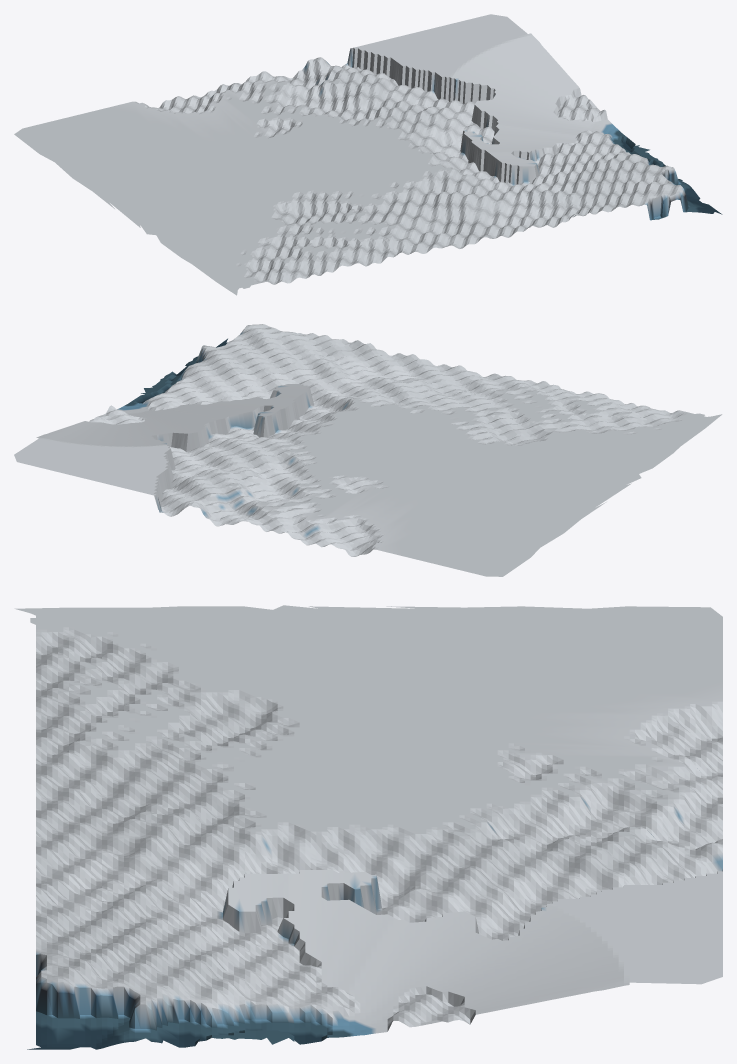
The model's file is frost_tile_x1z0.glb.
3 renders of one model, top to bottom at view 1: azimuth 30°, elevation 25°; view 2: azimuth 150°, elevation 25°; view 3: azimuth 270°, elevation 25°, orthographic. The views are drawn at different scales.
Visible parts, largest first — view 1: geometry_0; view 2: geometry_0; view 3: geometry_0.
Part boxes in pixels (box(x1,y1,x2,y2)): geometry_0: box(14, 14, 722, 295); geometry_0: box(14, 324, 722, 576); geometry_0: box(14, 605, 722, 1049).
Size of the model in its own units: 993 by 78 by 774.
